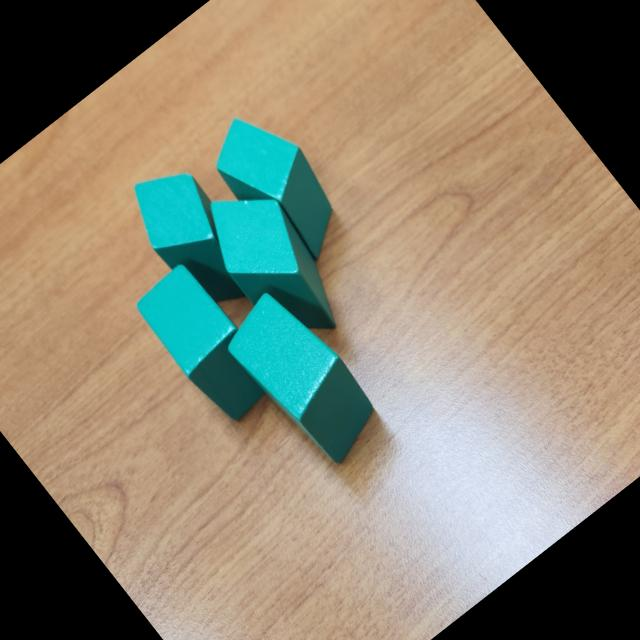green: (213, 278, 392, 474), (186, 168, 362, 360), (199, 98, 361, 274), (114, 150, 272, 324), (128, 260, 286, 432)
